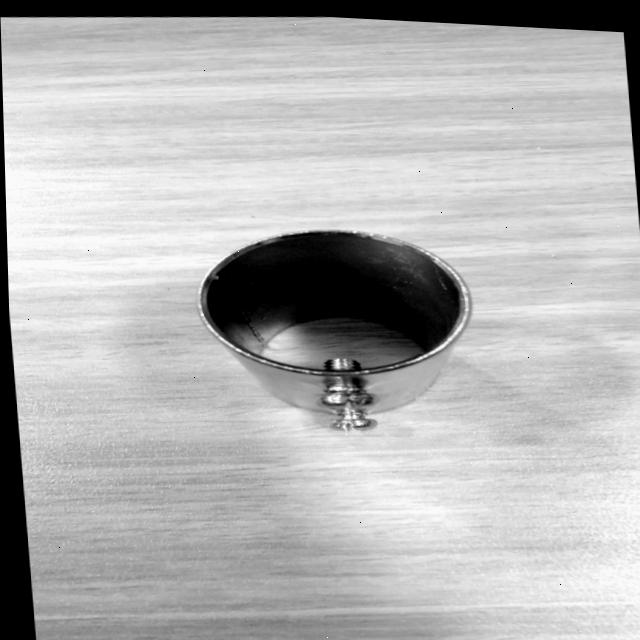Co_Nho: (171, 156, 491, 463)
